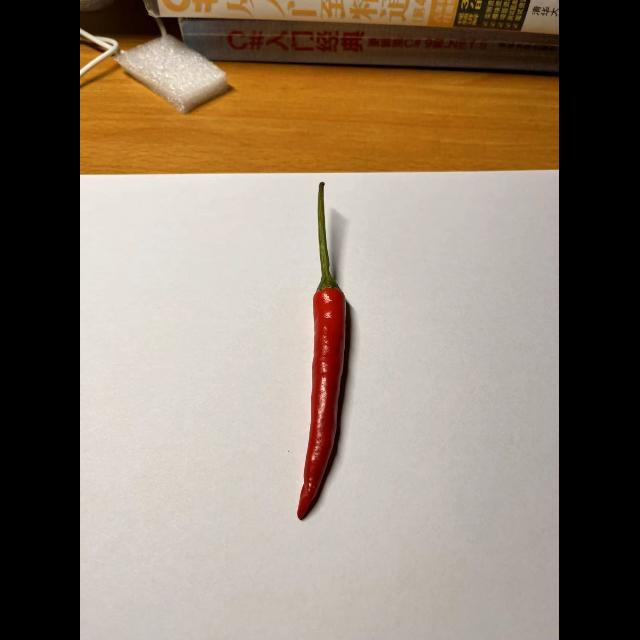chili_pepper: (284, 180, 354, 520)
